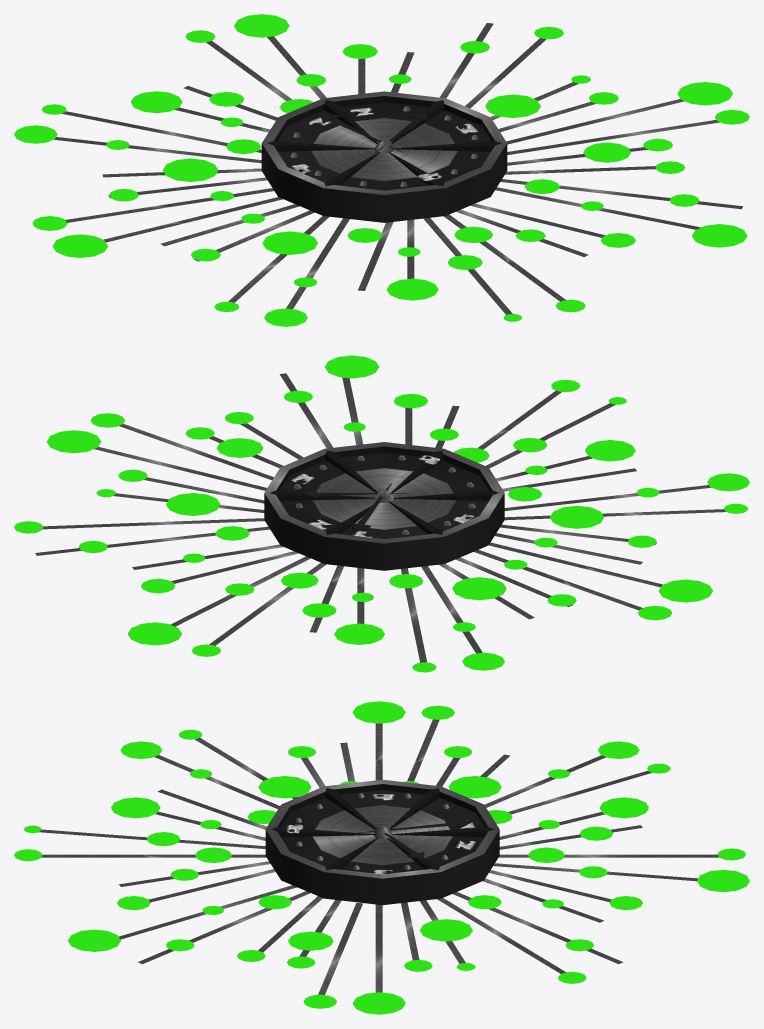
File: Clock_02_C.FBX
3 views of the same model, one above another, from view 1: azimuth 30°, elevation 25°; view 2: azimuth 150°, elevation 25°; view 3: azimuth 270°, elevation 25° (orthographic). The views are drawn at different scales.
Visible parts, largest first — view 1: Starburst_Clock_B; view 2: Starburst_Clock_B; view 3: Starburst_Clock_B.
Part boxes in pixels (bbox=[...]): Starburst_Clock_B: bbox=[14, 14, 749, 326]; Starburst_Clock_B: bbox=[14, 355, 749, 672]; Starburst_Clock_B: bbox=[14, 701, 749, 1014].
Bounding box in the file's own units: 76.01 × 3.32 × 75.43.
